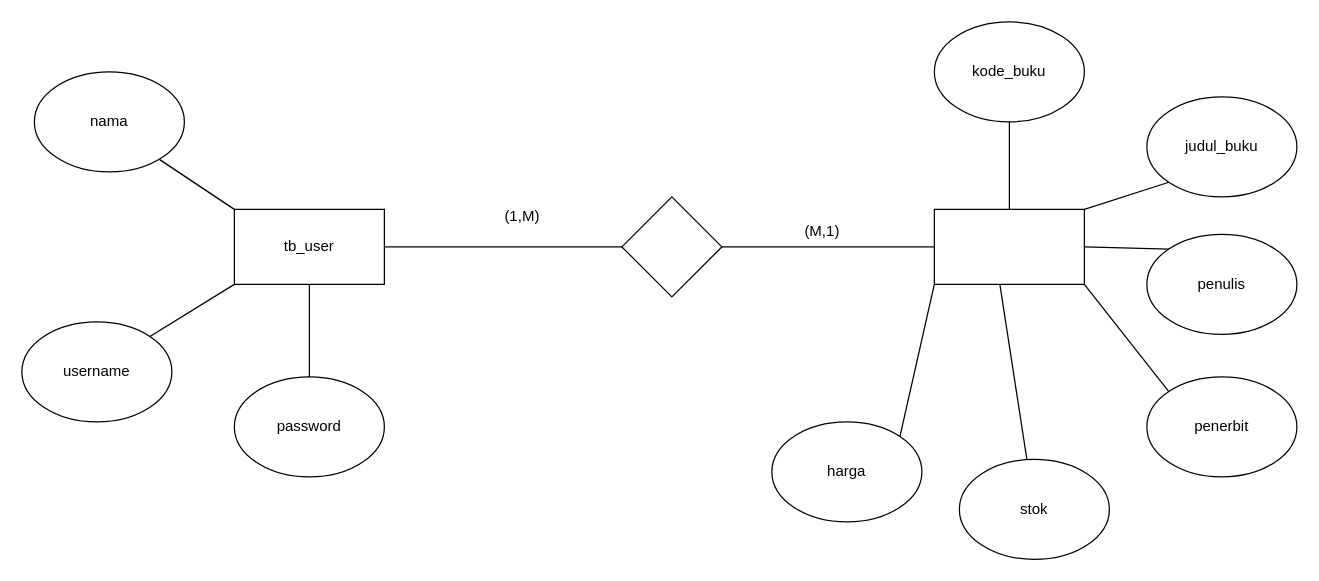
This 1319x581 diagram has some shape labels left out. The shapes that lost their labels are listed below. From the top down, each one's centre as x and y in pixels, then its label:
At (671,246): "login".
At (1008,246): "tb_buku".
